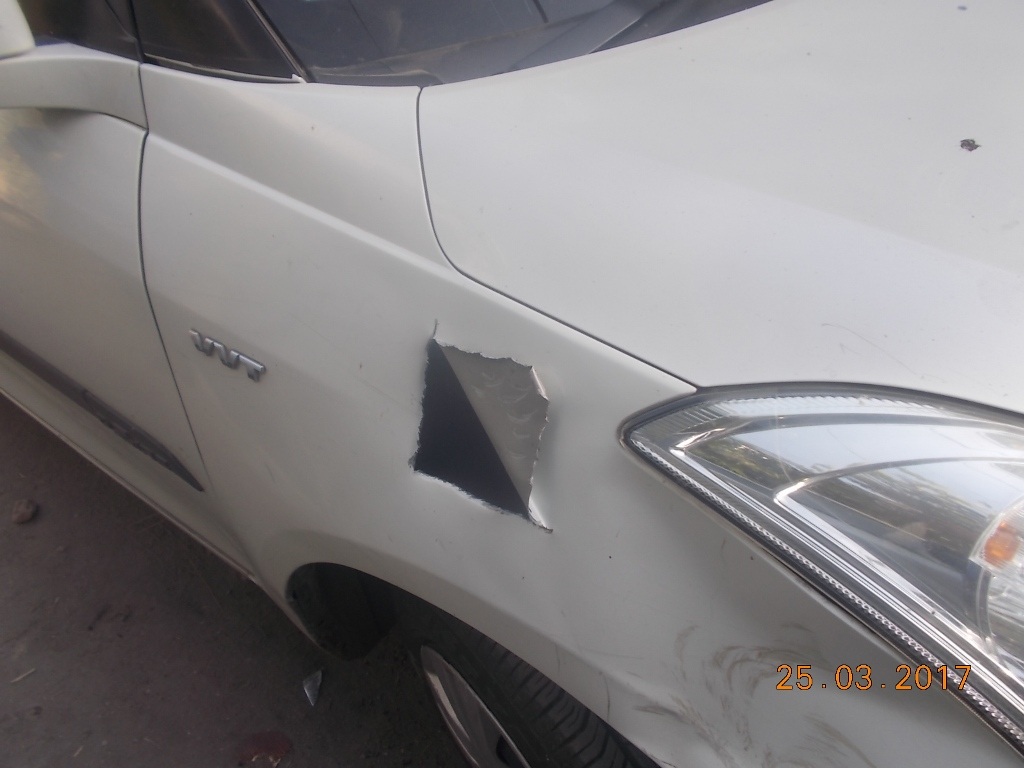Tear: (383, 308, 558, 531)
